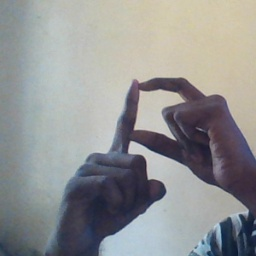D: (91, 72, 223, 197)
